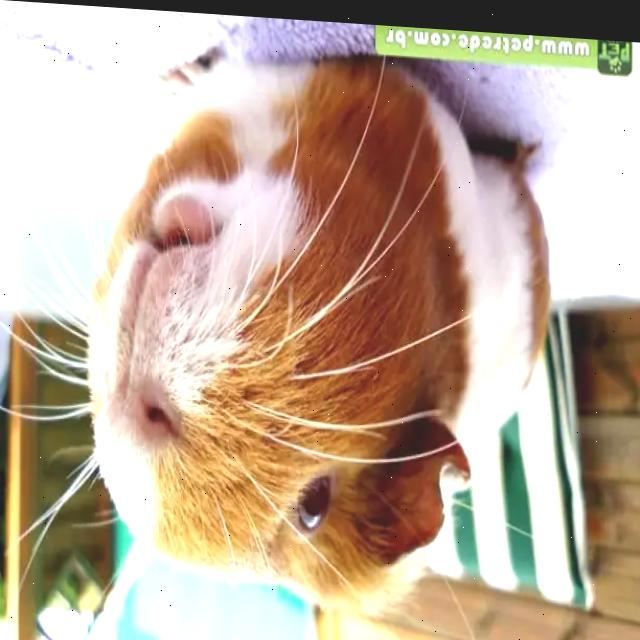guinea pig: (89, 36, 553, 615)
